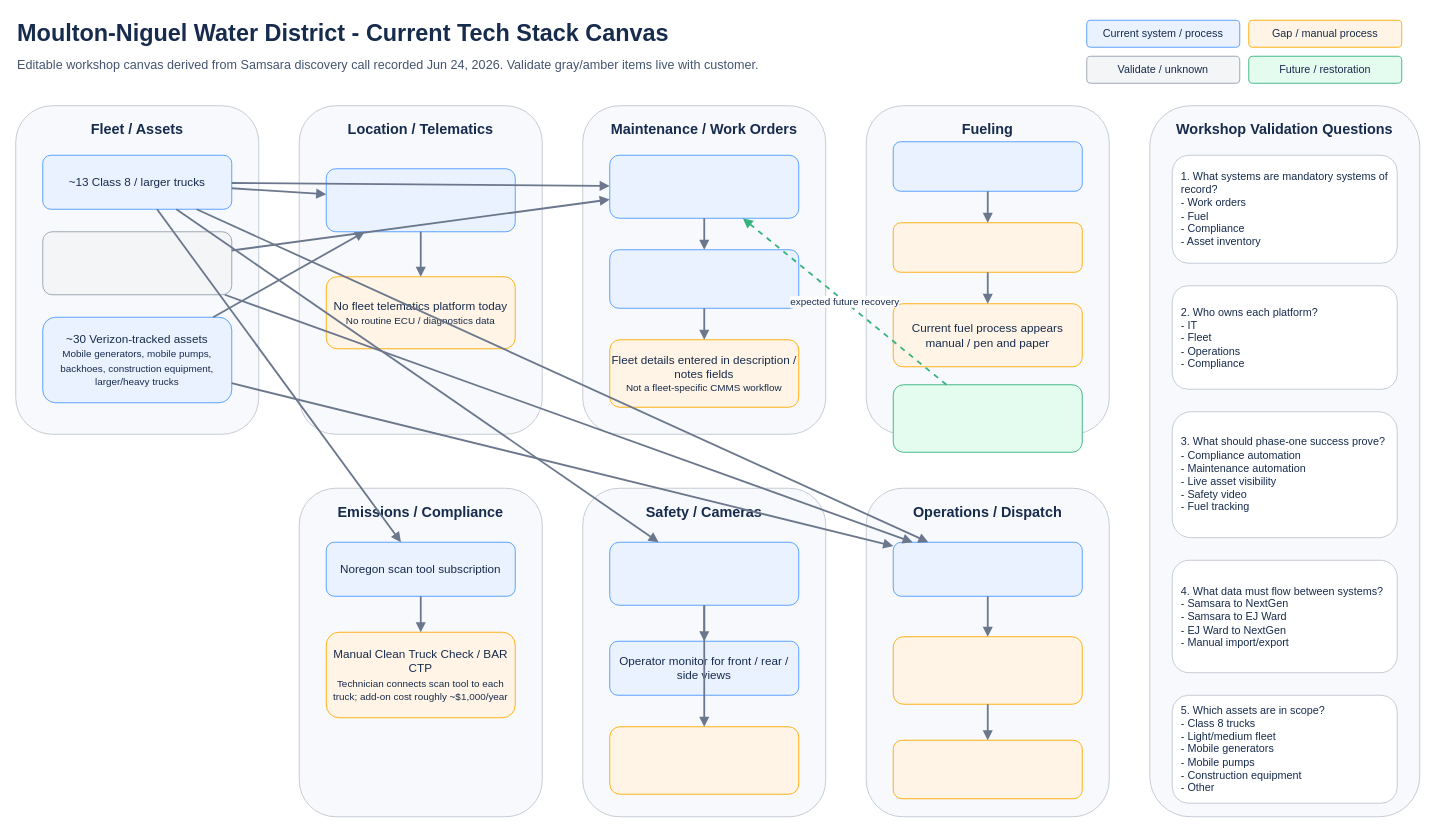
Image size: 1436x833. Some labels were removed from this diagram. Each missing label, with the centre of its shape:
EJ Ward Mileage / hours capture; service triggers: the point at 704,186
In person, phone, email, and likely radio/manual coordination: the point at 987,670
NextGen CMMS Work order system: the point at 704,278
No central screen dispatching based on live location: the point at 987,769
No DVR / recording No forward-facing dash cam for traffic events: the point at 704,760
On-site fueling: the point at 987,166
Rear View Safety (RVS) Vehicle camera systems: the point at 704,573
Supervisors direct crews: the point at 987,568
Temporary above-ground tanks: the point at 987,247
Underground fuel storage system currently down Hope to restore, timing uncertain: the point at 987,418
Verizon asset trackers IT-owned / budgeted; location only: the point at 420,200
~110-115 other fleet units Exact mix TBD: the point at 137,263
